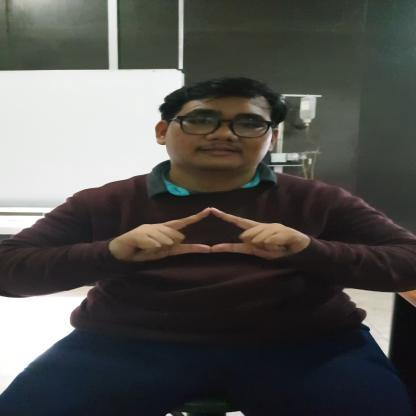A: (108, 207, 310, 262)
